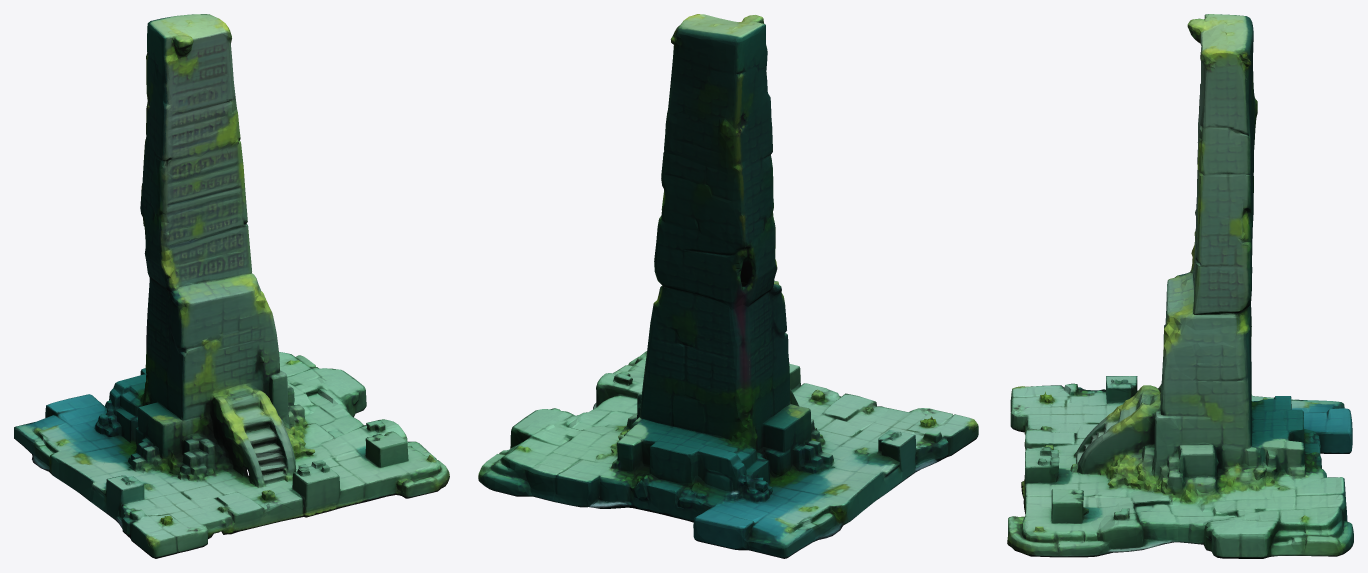
File: rly_monolito.glb
The picture shows the model from 3 angles, left to right: view 1: azimuth 30°, elevation 25°; view 2: azimuth 150°, elevation 25°; view 3: azimuth 270°, elevation 25°; orthographic projection. The views are drawn at different scales.
Visible parts, largest first — view 1: world; view 2: world; view 3: world.
Part boxes in pixels (bbox=[...]): world: bbox=[14, 14, 449, 558]; world: bbox=[478, 14, 978, 558]; world: bbox=[1007, 14, 1353, 558].
Size of the model in its own units: 0.7649 by 0.9971 by 0.7059.
1 material, 1 textured.
